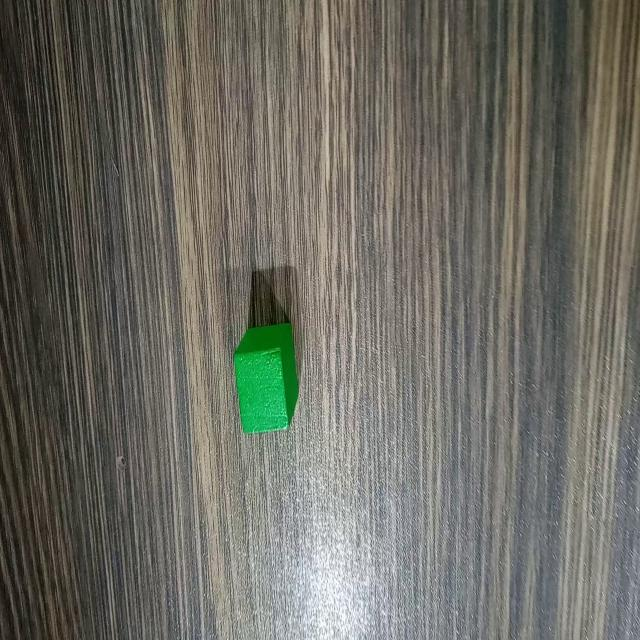cube: (230, 317, 301, 442)
